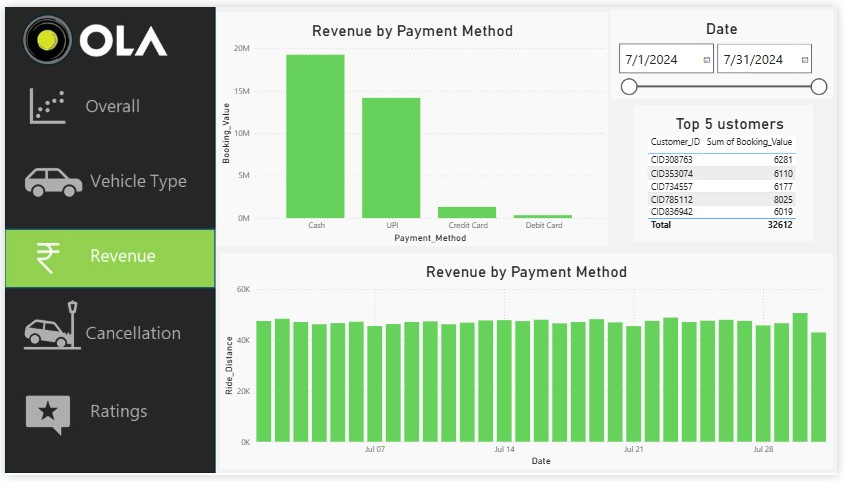

The page's visual inventory and layout, read from the dashboard file:
{"tool":"powerbi","page":{"name":"Revenue","canvas":[1280,720],"ordinal":2},"visuals":[{"type":"actionButton","box":[0,438.3,323.3,108.3],"z":0},{"type":"actionButton","box":[0,213.3,323.3,108.3],"z":1000},{"type":"actionButton","box":[0,105,323.3,108.3],"z":2000},{"type":"actionButton","box":[0,573.3,323.3,108.3],"z":3000},{"type":"columnChart","title":" Revenue by Payment Method","fields":{"Y":["Sum(July.Booking_Value)"],"Category":["July.Payment_Method"]},"box":[326.7,8.3,601.7,360],"z":4000},{"type":"columnChart","title":" Revenue by Payment Method","fields":{"Y":["Sum(July.Ride_Distance)"],"Category":["July.Date"]},"box":[330,378.3,943.3,333.3],"z":5000},{"type":"slicer","title":"Date","fields":{"Values":["July.Date"]},"box":[931.7,5,341.7,136.7],"z":6000},{"type":"tableEx","title":"Top 5 ustomers","fields":{"Values":["July.Customer_ID","Sum(July.Booking_Value)"]},"box":[968.3,150,275,210],"z":7000}]}

Visuals, with their boxes in screenshot pixels (x1, y1, x2, y2), scaled from the page's 1280x720 canvas onto the 845x482 screenshot:
actionButton: left=0, top=293, right=213, bottom=366
actionButton: left=0, top=143, right=213, bottom=215
actionButton: left=0, top=70, right=213, bottom=143
actionButton: left=0, top=384, right=213, bottom=456
" Revenue by Payment Method" columnChart: left=216, top=6, right=613, bottom=247
" Revenue by Payment Method" columnChart: left=218, top=253, right=841, bottom=476
"Date" slicer: left=615, top=3, right=841, bottom=95
"Top 5 ustomers" tableEx: left=639, top=100, right=821, bottom=241
